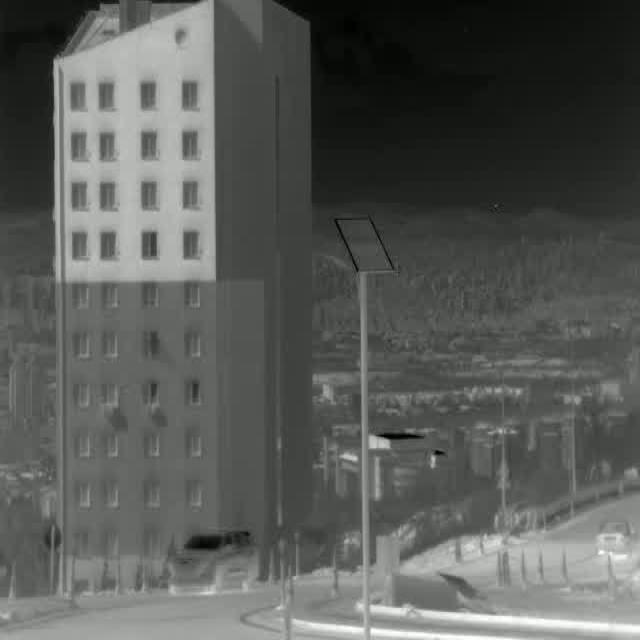Car: (169, 527, 259, 597), (592, 518, 638, 555)
